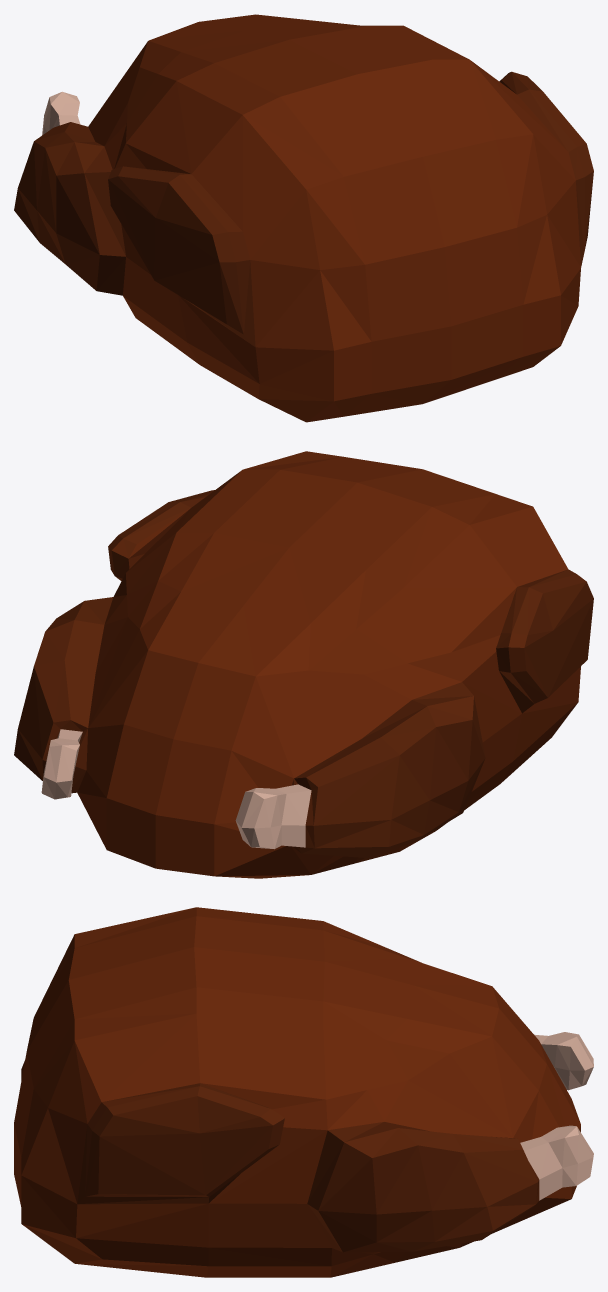
File: Kip_Model.FBX
The picture shows the model from 3 angles, top to bottom: view 1: azimuth 30°, elevation 25°; view 2: azimuth 150°, elevation 25°; view 3: azimuth 270°, elevation 25°; orthographic projection. The views are drawn at different scales.
Visible parts, largest first — view 1: Kip_model; view 2: Kip_model; view 3: Kip_model.
Part boxes in pixels (bbox=[...]): Kip_model: bbox=[14, 14, 593, 422]; Kip_model: bbox=[14, 451, 593, 878]; Kip_model: bbox=[14, 907, 593, 1277].
Bounding box in the file's own units: 2411 × 3032 × 1643.
